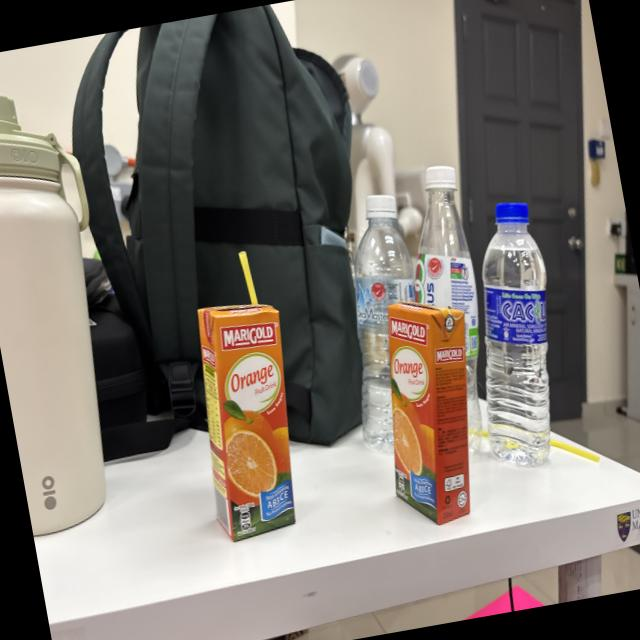drink_carton: (160, 237, 320, 558), (352, 286, 505, 540)
plastic_bottle: (444, 189, 590, 482), (321, 190, 450, 462)
